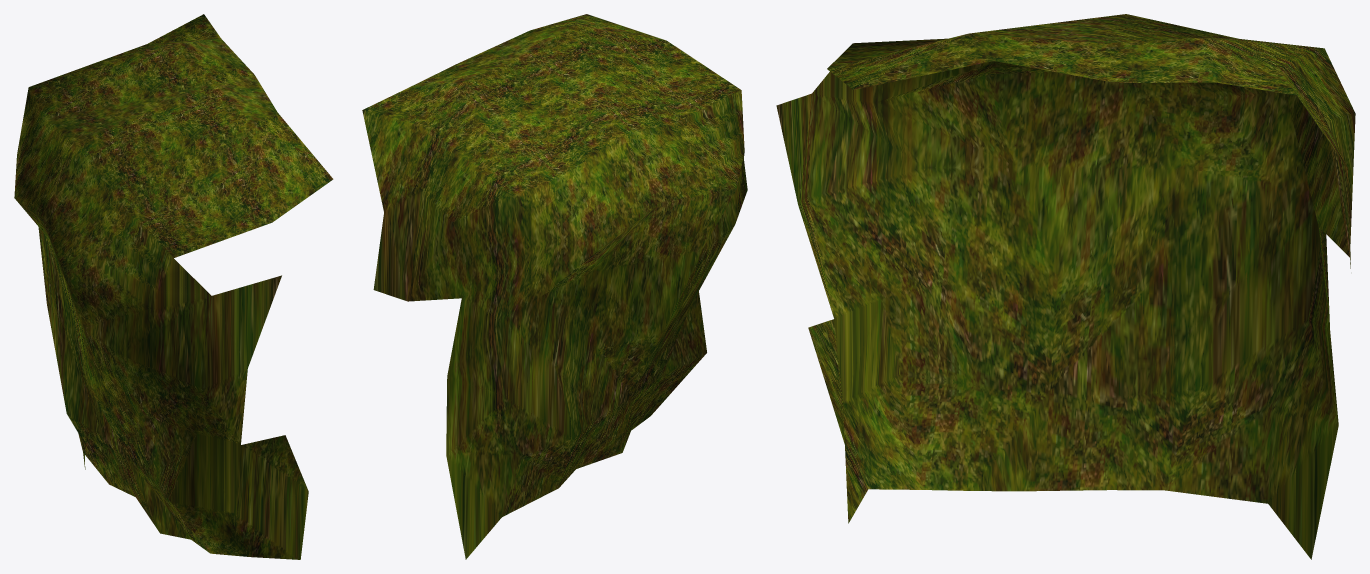
File: TROLLHOLE02_RM_PSURF84.fbx
3 views of the same model, side by side, from view 1: azimuth 30°, elevation 25°; view 2: azimuth 150°, elevation 25°; view 3: azimuth 270°, elevation 25° (orthographic). The views are drawn at different scales.
Parts seen in each view (by area): view 1: TROLLHOLE02_RM_PSURF84; view 2: TROLLHOLE02_RM_PSURF84; view 3: TROLLHOLE02_RM_PSURF84.
Part boxes in pixels (x1=…): TROLLHOLE02_RM_PSURF84: x1=14, y1=14, x2=333, y2=559; TROLLHOLE02_RM_PSURF84: x1=362, y1=14, x2=747, y2=559; TROLLHOLE02_RM_PSURF84: x1=776, y1=14, x2=1355, y2=559.
Bounding box in the file's own units: 65452 × 107135 × 102183.
1 material, 1 textured.
